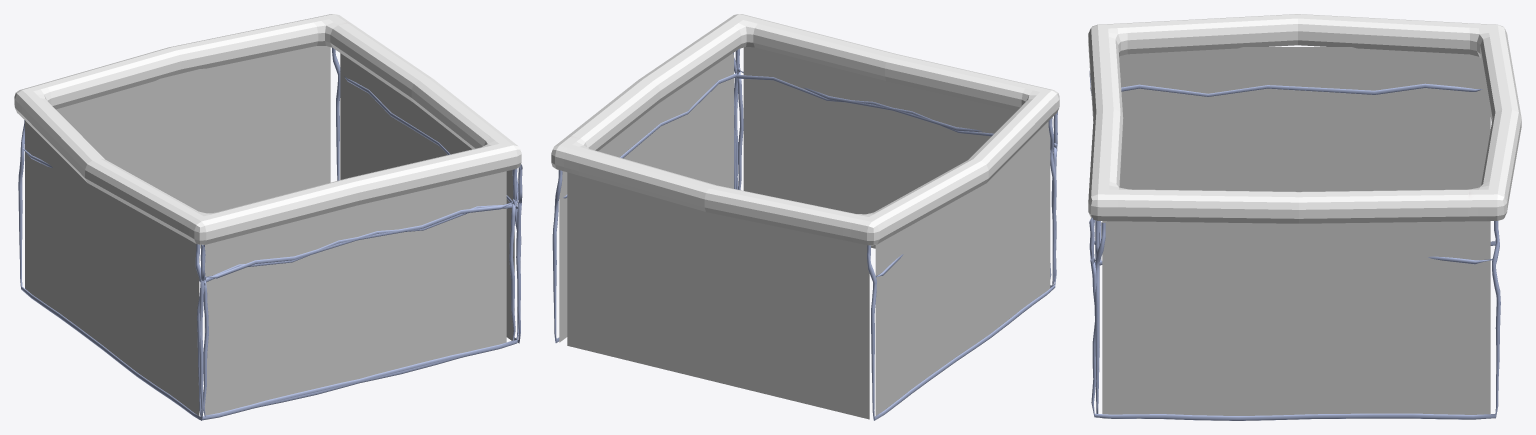
The model's file is jaring.fbx.
3 views of the same model, side by side, from view 1: azimuth 30°, elevation 25°; view 2: azimuth 150°, elevation 25°; view 3: azimuth 270°, elevation 25° (orthographic). The views are drawn at different scales.
Visible parts, largest first — view 1: jaring.001; view 2: jaring.001; view 3: jaring.001.
Part boxes in pixels (x1,y1,x2,y2): jaring.001: [14, 14, 522, 420]; jaring.001: [551, 14, 1059, 420]; jaring.001: [1088, 14, 1521, 420].
Bounding box in the file's own units: 232 × 127 × 223.
3 materials, 1 textured.
